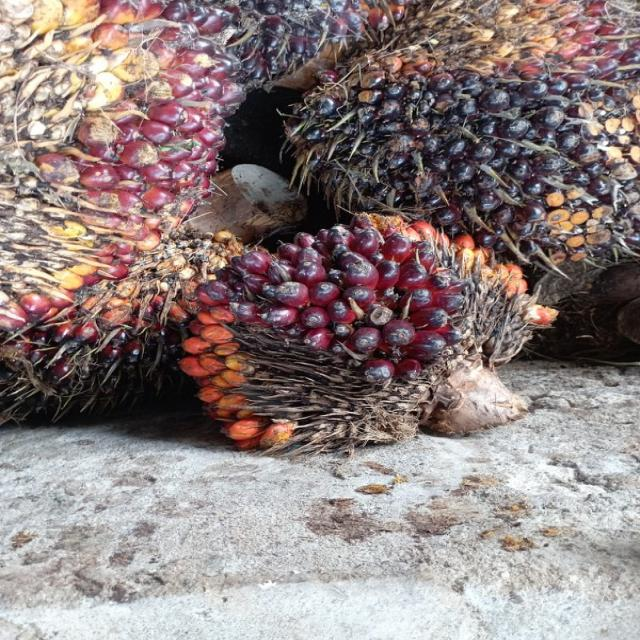fraksi 00: (317, 0, 640, 278)
fraksi 1: (177, 204, 550, 458)
fraksi 3: (0, 0, 233, 334)
